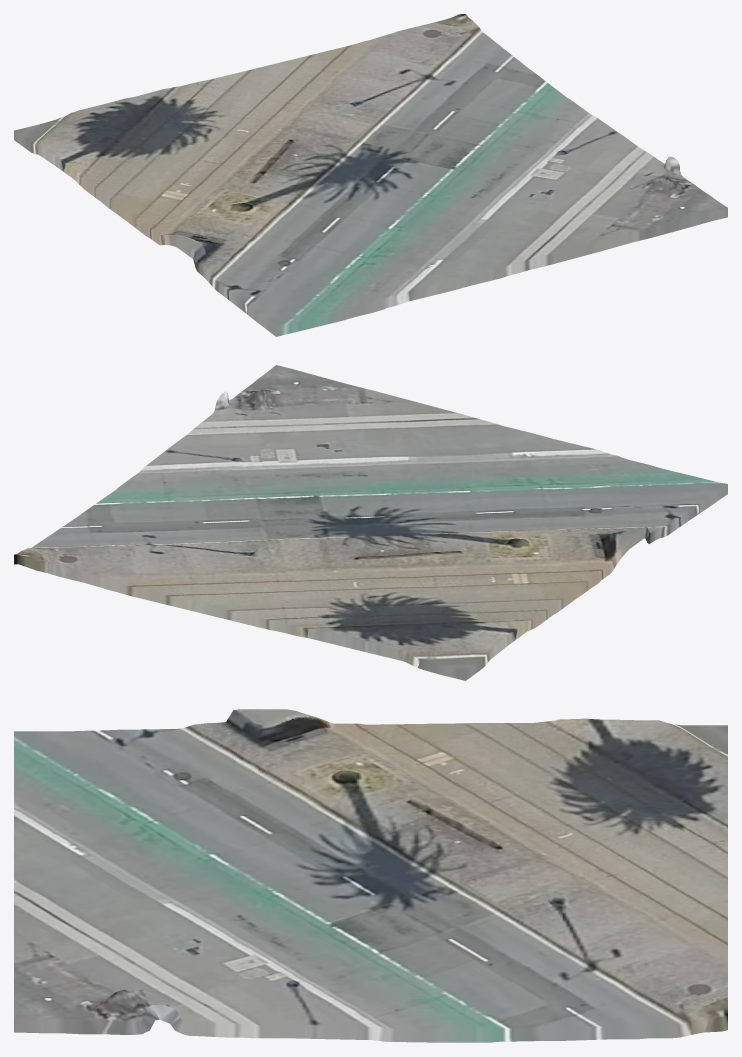
The model's file is z20-167773-405198-h0-yup-uvflip-v3-world.glb.
The picture shows the model from 3 angles, top to bottom: view 1: azimuth 30°, elevation 25°; view 2: azimuth 150°, elevation 25°; view 3: azimuth 270°, elevation 25°; orthographic projection. The views are drawn at different scales.
Bounding box in the file's own units: 30.16 × 1.88 × 30.32.
Materials: 1 (1 with a texture image).
